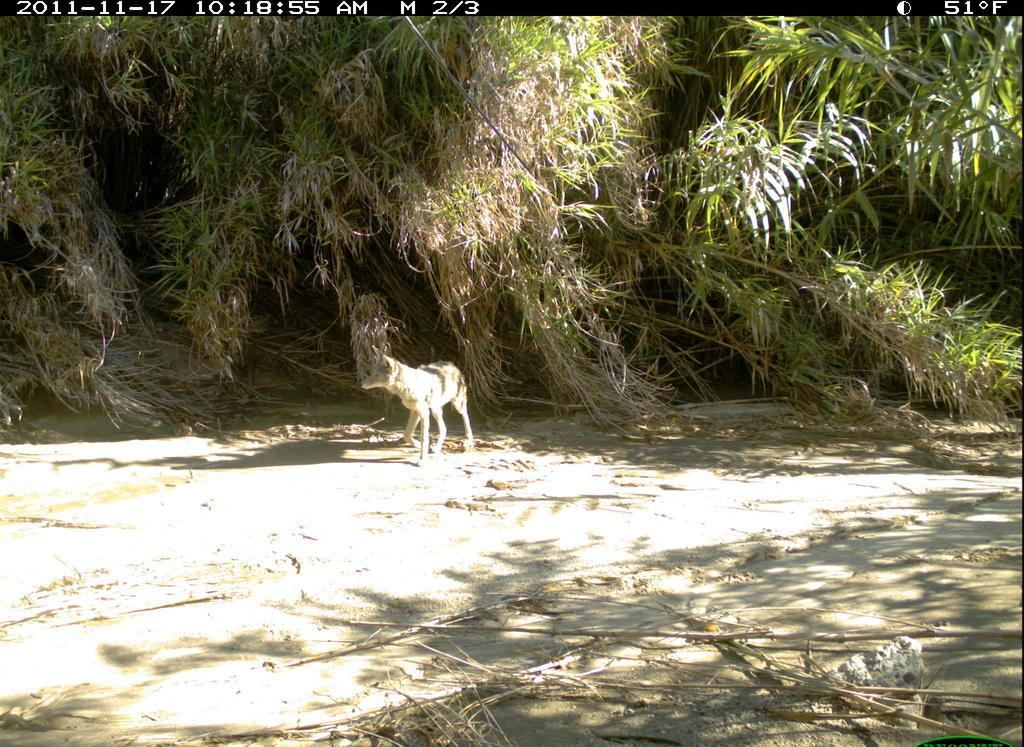coyote: (354, 337, 481, 473)
